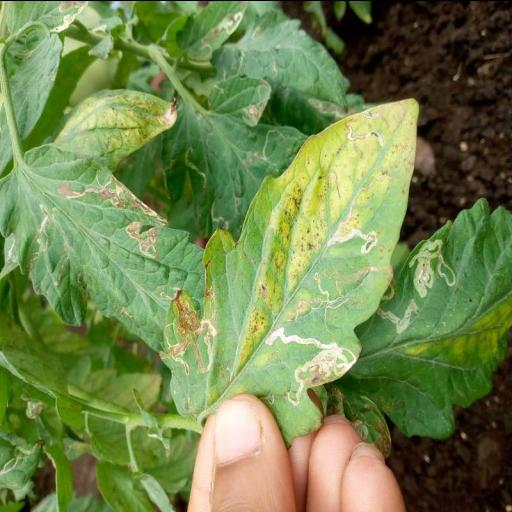disease_tomato: (165, 96, 419, 448), (334, 191, 512, 447), (0, 151, 207, 346)
